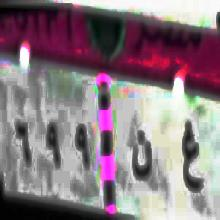6: (14, 114, 34, 174)
9: (44, 117, 63, 178), (75, 118, 92, 178)
ghayn: (178, 110, 203, 204)
noon: (125, 124, 157, 186)
